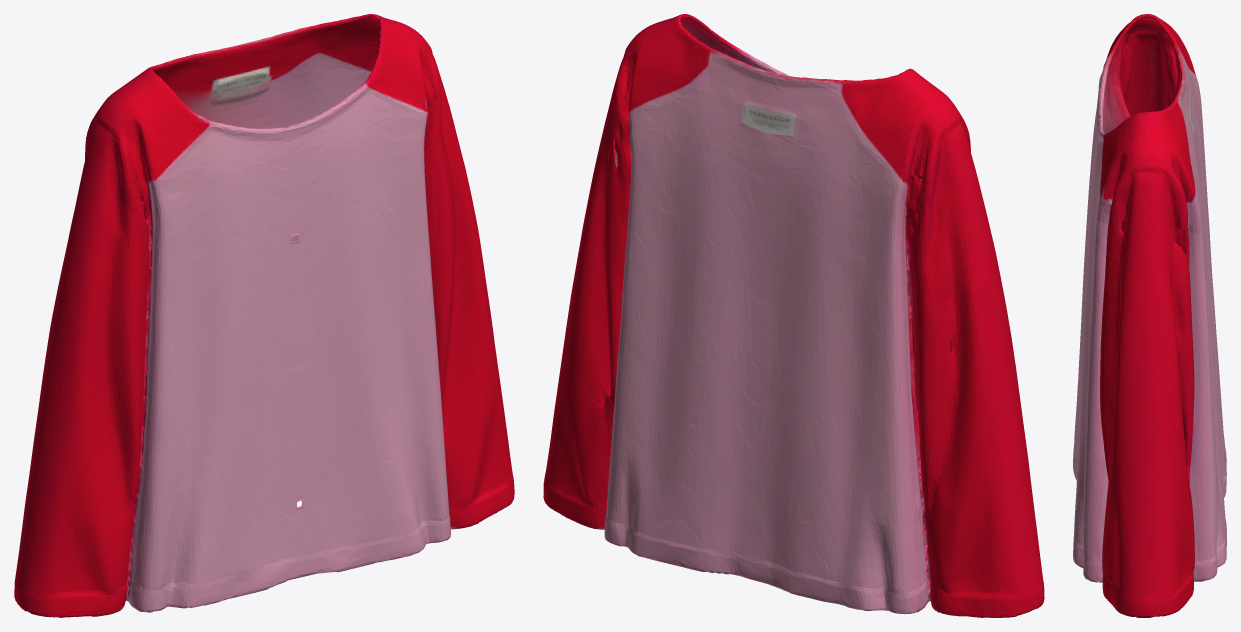
Rendered from zaraTshirt1.obj.
The picture shows the model from 3 angles, left to right: view 1: azimuth 30°, elevation 25°; view 2: azimuth 150°, elevation 25°; view 3: azimuth 270°, elevation 25°; orthographic projection. The views are drawn at different scales.
Parts seen in each view (by area): view 1: material; view 2: material; view 3: material.
Part boxes in pixels (<box>): material: <box>14,14,514,617</box>; material: <box>543,14,1044,617</box>; material: <box>1073,14,1226,617</box>.
Bounding box in the file's own units: 0.8601 × 0.8575 × 0.2637.
Materials: 1 (1 with a texture image).
